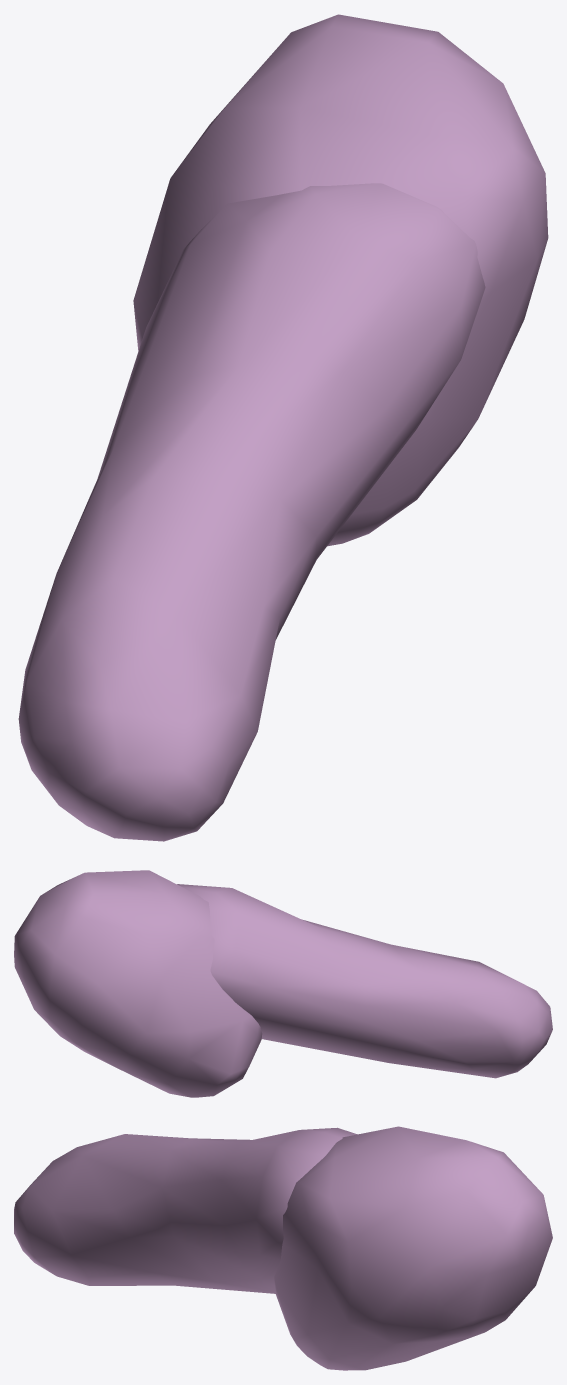
The picture shows the model from 3 angles, top to bottom: view 1: azimuth 30°, elevation 25°; view 2: azimuth 150°, elevation 25°; view 3: azimuth 270°, elevation 25°; orthographic projection. The views are drawn at different scales.
Parts seen in each view (by area): view 1: 右侧下丘; view 2: 右侧下丘; view 3: 右侧下丘.
Part boxes in pixels (box(x1,y1,x2,y2)): 右侧下丘: box(18, 14, 548, 841); 右侧下丘: box(14, 870, 552, 1097); 右侧下丘: box(14, 1126, 552, 1370).
Bounding box in the file's own units: 0.0207 × 0.0121 × 0.0207.
